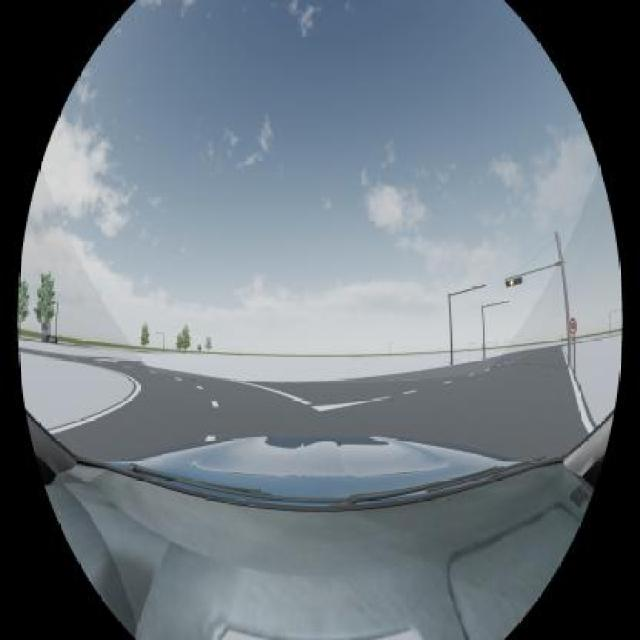forb_speed_over_100: (569, 318, 577, 335)
